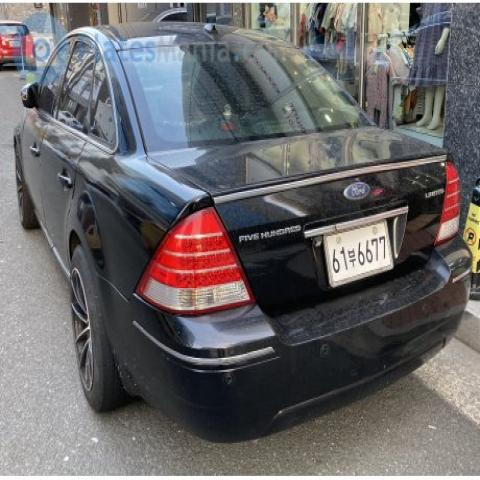LP: (317, 211, 404, 295)
